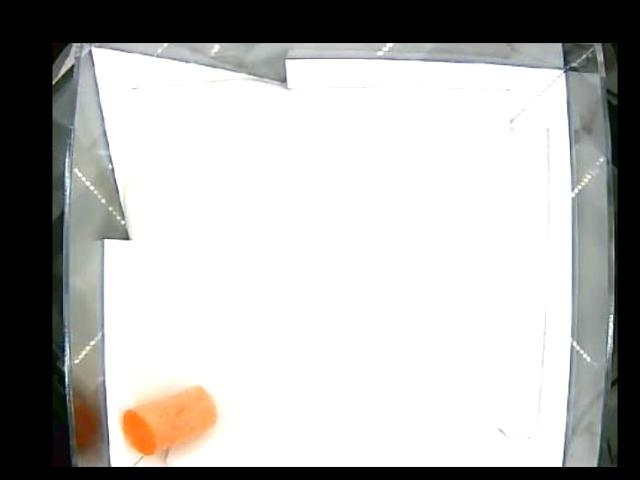Carrot: (121, 383, 215, 456)
